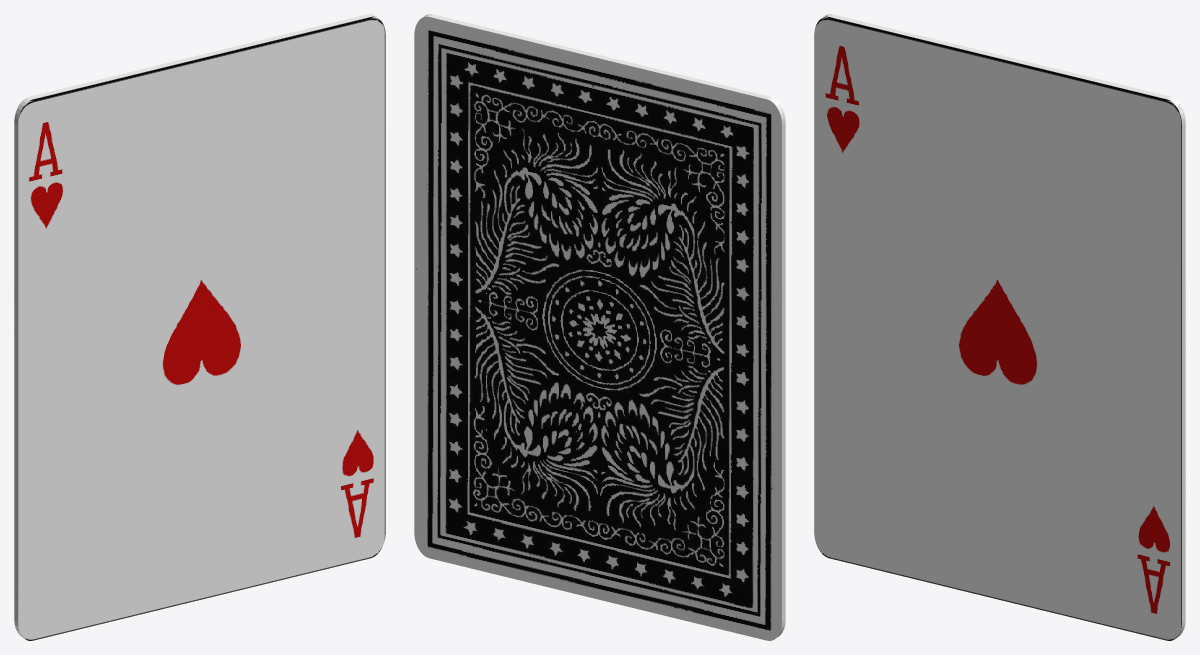
Rendered from card.fbx.
3 renders of one model, left to right at view 1: azimuth 30°, elevation 25°; view 2: azimuth 150°, elevation 25°; view 3: azimuth 330°, elevation 25°, orthographic.
Visible parts, largest first — view 1: Card; view 2: Card; view 3: Card.
Boxes of the visible parts, <box> form: Card: <box>14,14,385,640</box>; Card: <box>414,14,785,640</box>; Card: <box>814,14,1185,640</box>.
Bounding box in the file's own units: 585 × 822 × 10.08.
Materials: 1 (1 with a texture image).
